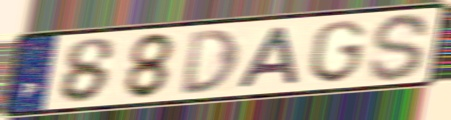8: (59, 36, 117, 105), (121, 31, 177, 101)
A: (235, 24, 302, 90)
D: (180, 26, 242, 97)
G: (306, 18, 368, 85)
S: (366, 11, 433, 84)
